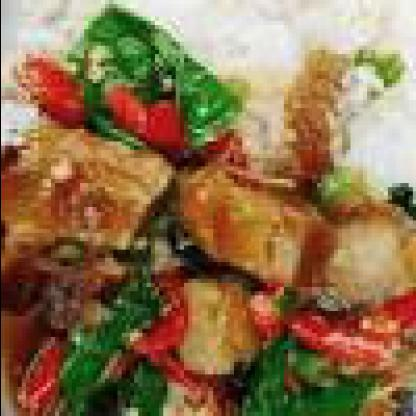Basil Rice: (4, 8, 409, 415)
